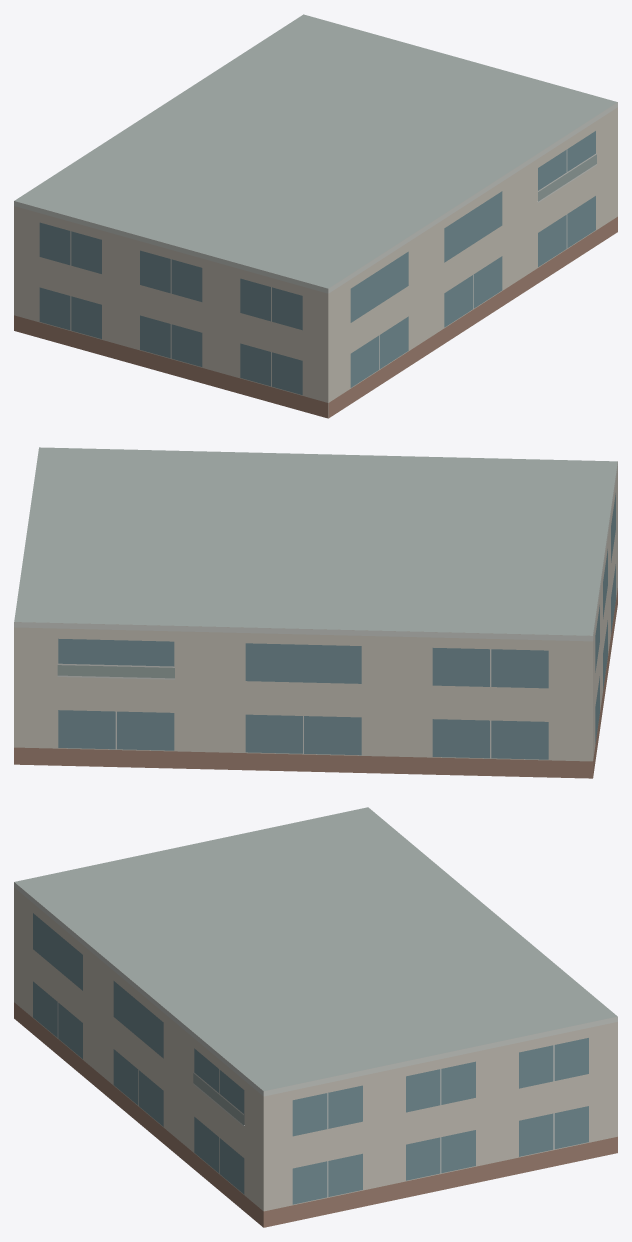
Rendered from survey-upis-32858883.glb.
The picture shows the model from 3 angles, top to bottom: view 1: azimuth 30°, elevation 25°; view 2: azimuth 150°, elevation 25°; view 3: azimuth 270°, elevation 25°; orthographic projection. The views are drawn at different scales.
Parts seen in each view (by area): view 1: survey-upis-32858883.tmp; view 2: survey-upis-32858883.tmp; view 3: survey-upis-32858883.tmp.
Part boxes in pixels (box(x1,y1,x2,y2)): survey-upis-32858883.tmp: box(14, 14, 617, 418); survey-upis-32858883.tmp: box(14, 447, 617, 778); survey-upis-32858883.tmp: box(14, 807, 617, 1227).
Size of the model in its own units: 28.14 by 6.3 by 25.27.
